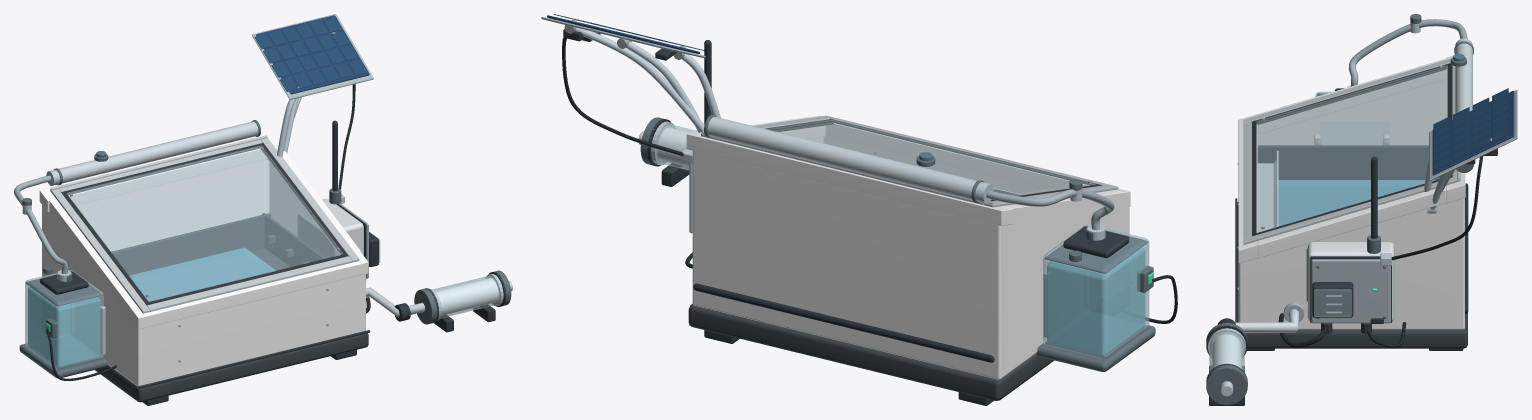
Rendered from dessalinizador-solar-r33.glb.
3 views of the same model, side by side, from view 1: azimuth 30°, elevation 25°; view 2: azimuth 150°, elevation 25°; view 3: azimuth 270°, elevation 25° (orthographic). The views are drawn at different scales.
Visible parts, largest first — view 1: BODY_sealed_white_thermal_enclosure, ROOF_closed_tinted_tempered_glass, TANK_cooling_reservoir_closed_translucent_wall, BASIN_black_endwall_049, TANK_cooling_reservoir_water, BODY_black_lower_plinth, WATER_internal_saline_shallow_volume_40mm, SEAL_FIX_structural_support_front, BASIN_continuous_dark_collection_pan, PIPE_upper_perforated_cooling_header, SEAL_FIX_structural_support_back, PV_dark_cell_bed (+24 smaller); view 2: BODY_sealed_white_thermal_enclosure, TANK_cooling_reservoir_closed_translucent_wall, BODY_black_lower_plinth, TANK_cooling_reservoir_water, ROOF_closed_tinted_tempered_glass, PIPE_upper_perforated_cooling_header, SEAL_FIX_structural_support_back, SEAL_FIX_structural_support_front, BASIN_continuous_dark_collection_pan, TANK_left_opaque_mount, TANK_top_fluid_level_seal, PIPE_cooling_supply_continuous_sealed (+12 smaller); view 3: BODY_sealed_white_thermal_enclosure, ROOF_closed_tinted_tempered_glass, BASIN_black_sidewall_-068, BODY_black_lower_plinth, ELEC_IP65_front_lid, WATER_internal_saline_shallow_volume_40mm, SEAL_FIX_structural_support_right, BASIN_continuous_dark_collection_pan, SEAL_FIX_structural_support_left, PV_dark_cell_bed, TANK_cooling_reservoir_closed_translucent_wall, ELEC_IP65_sealed_control_enclosure (+25 smaller).
Part boxes in pixels (x1,y1,x2,y2): BODY_sealed_white_thermal_enclosure: [42, 159, 365, 386]; ROOF_closed_tinted_tempered_glass: [66, 145, 342, 301]; TANK_cooling_reservoir_closed_translucent_wall: [25, 270, 103, 368]; BASIN_black_endwall_049: [111, 213, 270, 279]; TANK_cooling_reservoir_water: [28, 287, 100, 367]; BODY_black_lower_plinth: [95, 330, 368, 402]; WATER_internal_saline_shallow_volume_40mm: [129, 248, 276, 301]; SEAL_FIX_structural_support_front: [130, 251, 368, 329]; BASIN_continuous_dark_collection_pan: [134, 248, 290, 301]; PIPE_upper_perforated_cooling_header: [58, 121, 258, 183]; SEAL_FIX_structural_support_back: [39, 133, 278, 212]; PV_dark_cell_bed: [256, 15, 369, 94]; BODY_sealed_white_thermal_enclosure: [692, 136, 1129, 379]; TANK_cooling_reservoir_closed_translucent_wall: [1043, 224, 1149, 358]; BODY_black_lower_plinth: [688, 304, 1054, 400]; TANK_cooling_reservoir_water: [1047, 247, 1145, 355]; ROOF_closed_tinted_tempered_glass: [765, 119, 1096, 195]; PIPE_upper_perforated_cooling_header: [707, 116, 977, 200]; SEAL_FIX_structural_support_back: [686, 132, 1012, 225]; SEAL_FIX_structural_support_front: [810, 115, 1130, 206]; BASIN_continuous_dark_collection_pan: [693, 283, 994, 362]; TANK_left_opaque_mount: [1036, 325, 1155, 371]; TANK_top_fluid_level_seal: [1044, 230, 1148, 273]; PIPE_cooling_supply_continuous_sealed: [986, 189, 1114, 229]; BODY_sealed_white_thermal_enclosure: [1238, 79, 1464, 329]; ROOF_closed_tinted_tempered_glass: [1256, 65, 1447, 232]; BASIN_black_sidewall_-068: [1257, 145, 1439, 179]; BODY_black_lower_plinth: [1237, 202, 1467, 348]; ELEC_IP65_front_lid: [1311, 259, 1390, 323]; WATER_internal_saline_shallow_volume_40mm: [1278, 180, 1435, 226]; SEAL_FIX_structural_support_right: [1257, 186, 1446, 258]; BASIN_continuous_dark_collection_pan: [1279, 183, 1468, 313]; SEAL_FIX_structural_support_left: [1257, 58, 1446, 134]; PV_dark_cell_bed: [1432, 90, 1514, 175]; TANK_cooling_reservoir_closed_translucent_wall: [1315, 91, 1389, 144]; ELEC_IP65_sealed_control_enclosure: [1307, 242, 1394, 321].
Bounding box in the file's own units: 3.18 × 1.65 × 1.72.
